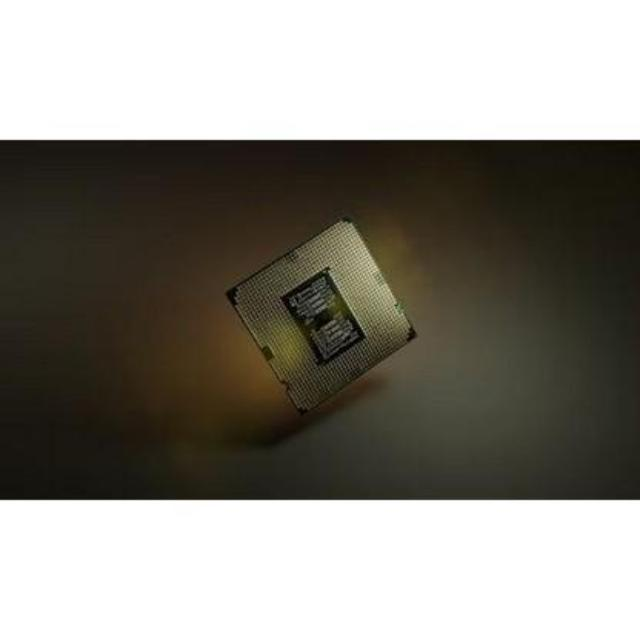CPU: (231, 216, 420, 424)
